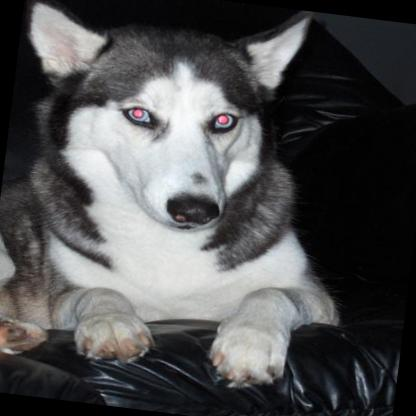Siberian_husky: (0, 0, 374, 396)
